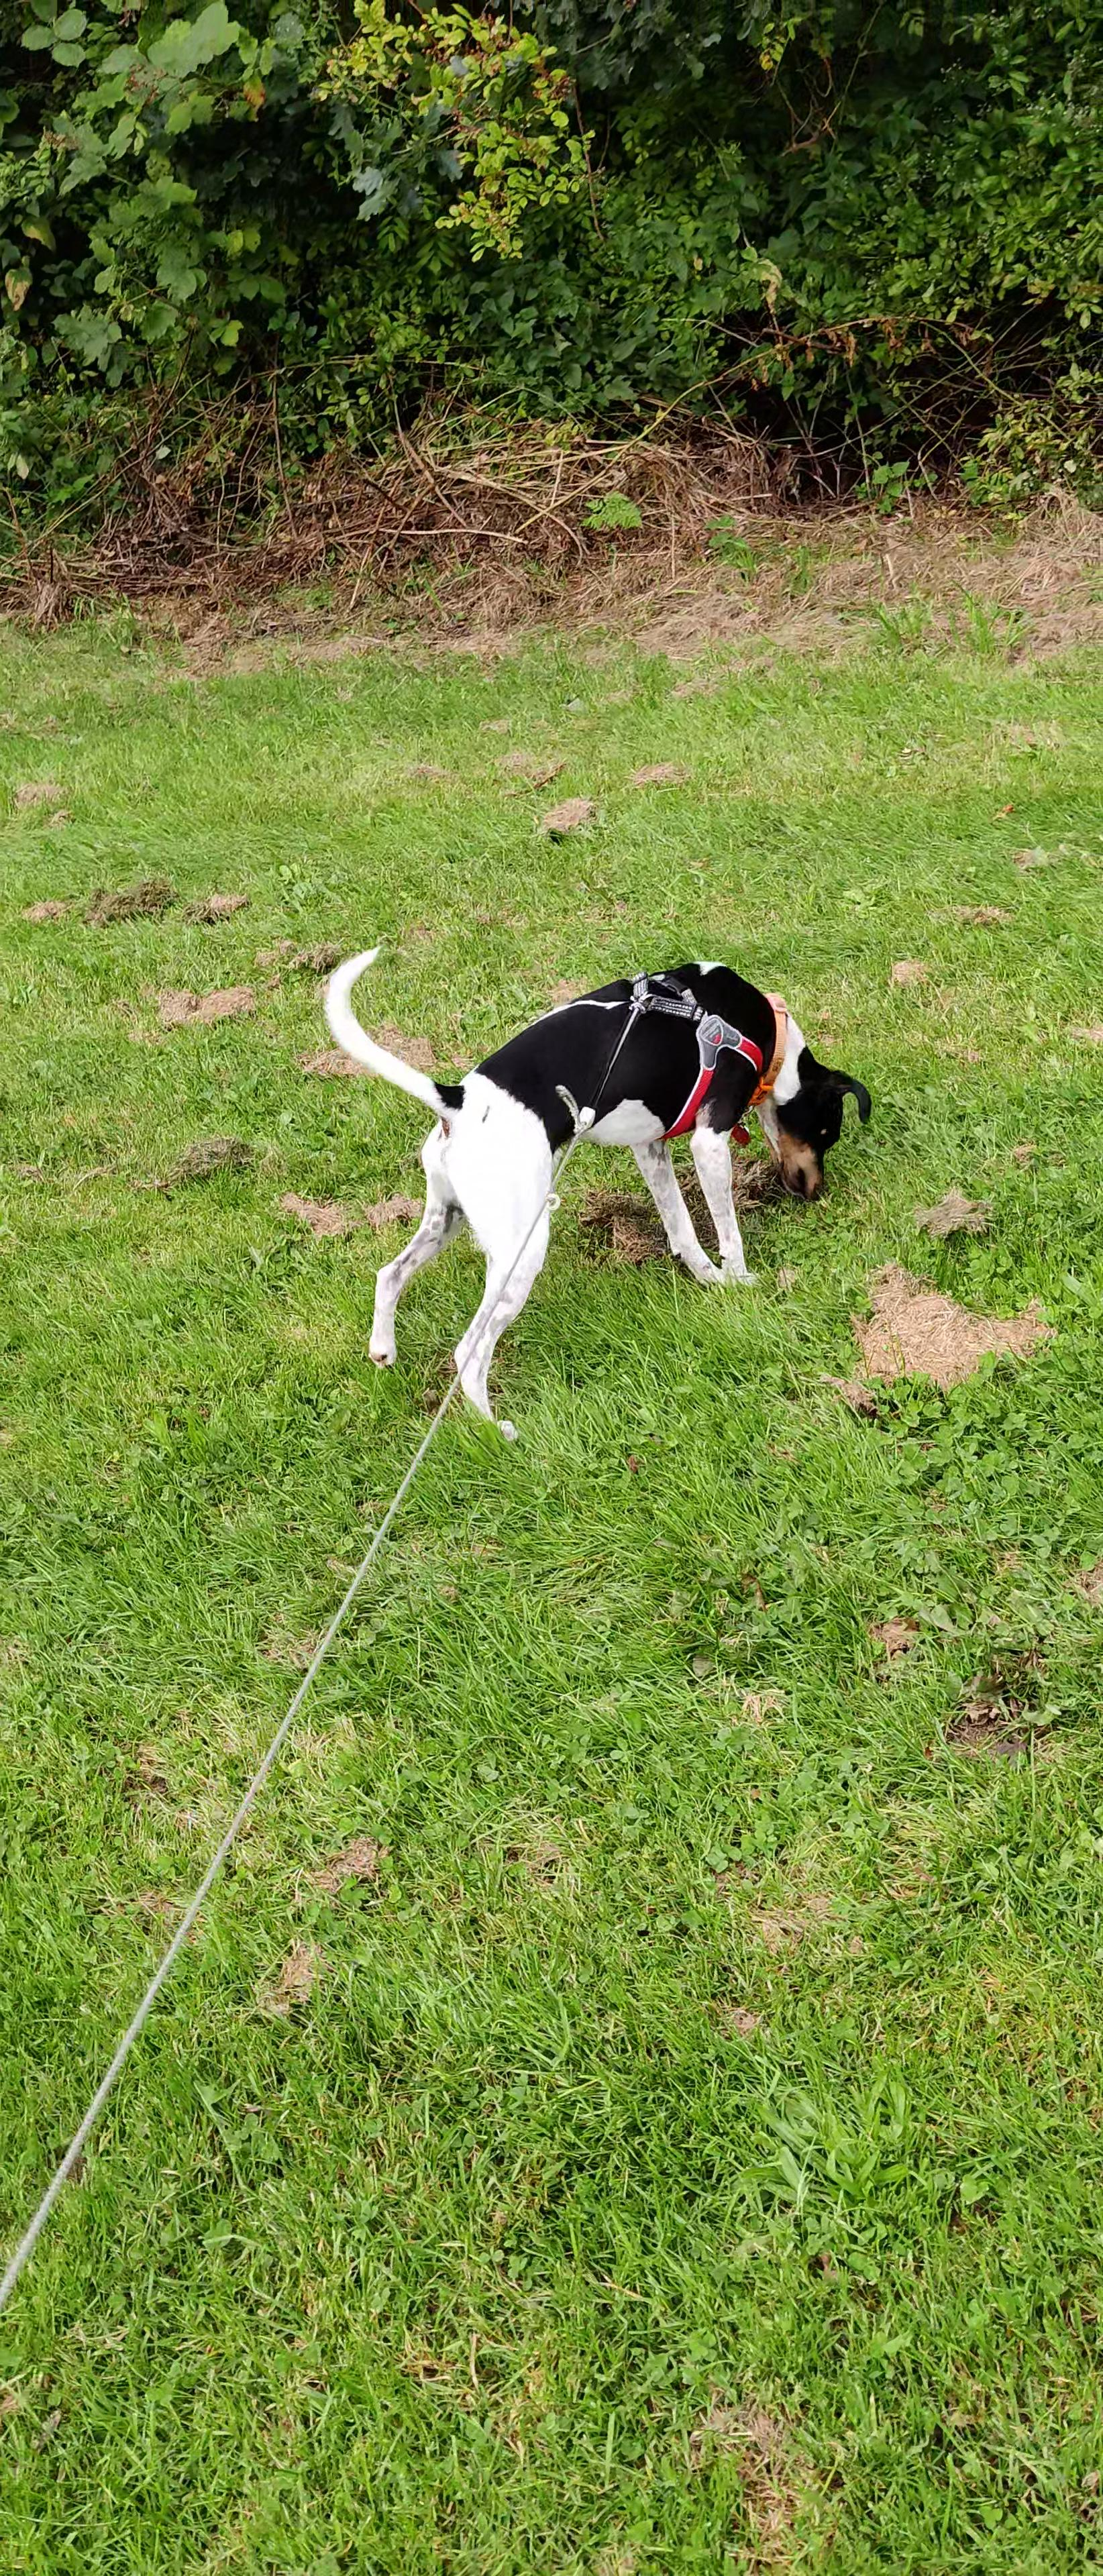Dog: (299, 918, 906, 1442)
